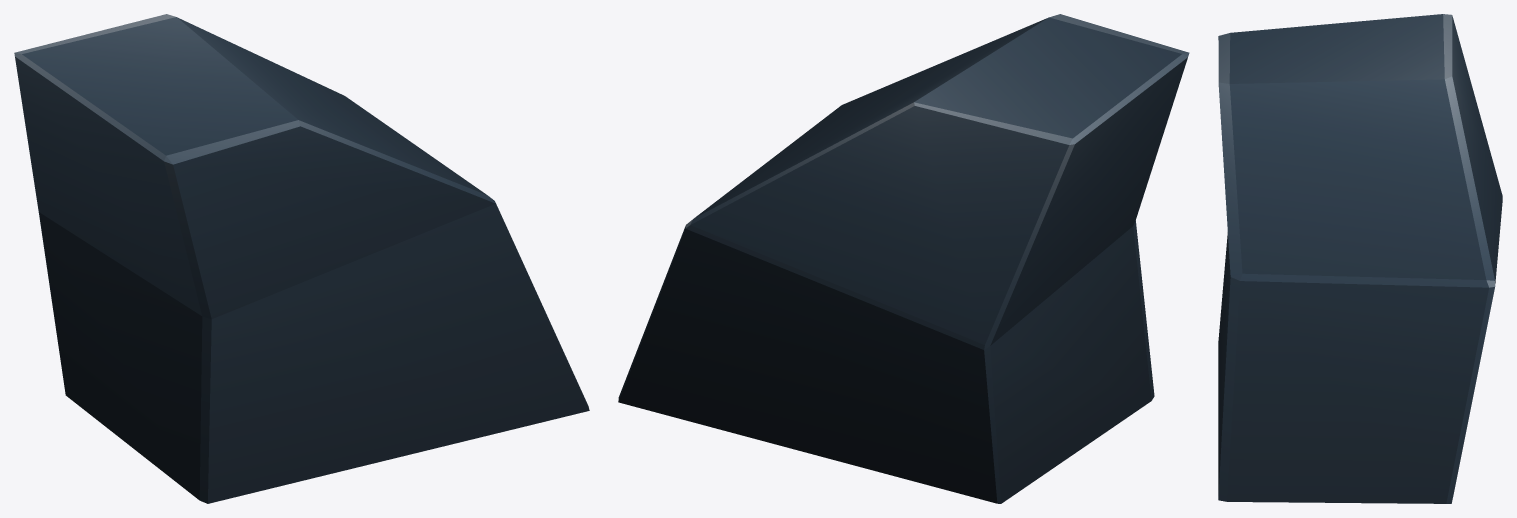
Rendered from Rock_4.fbx.
3 renders of one model, left to right at view 1: azimuth 30°, elevation 25°; view 2: azimuth 150°, elevation 25°; view 3: azimuth 270°, elevation 25°, orthographic. The views are drawn at different scales.
Parts seen in each view (by area): view 1: Rock_4; view 2: Rock_4; view 3: Rock_4.
Boxes of the visible parts, x1=… form: Rock_4: x1=14, y1=14, x2=589, y2=503; Rock_4: x1=618, y1=14, x2=1189, y2=503; Rock_4: x1=1218, y1=14, x2=1502, y2=503.
Size of the model in its own units: 125 by 96.46 by 80.84.
